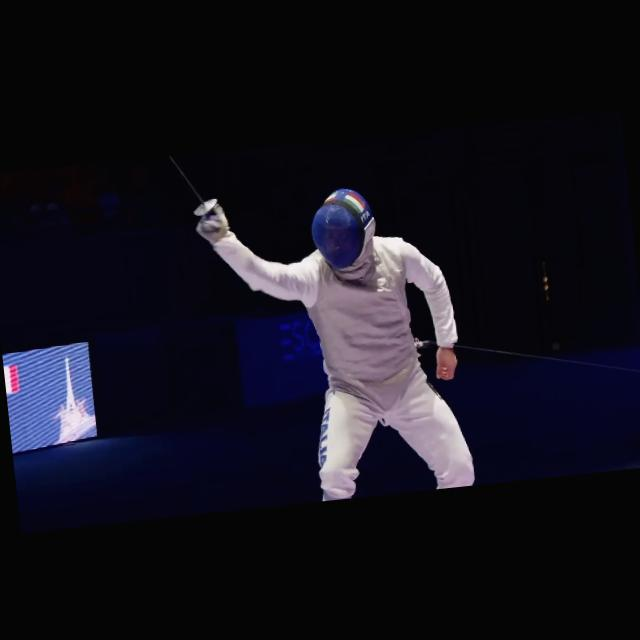blade: (160, 150, 228, 231)
